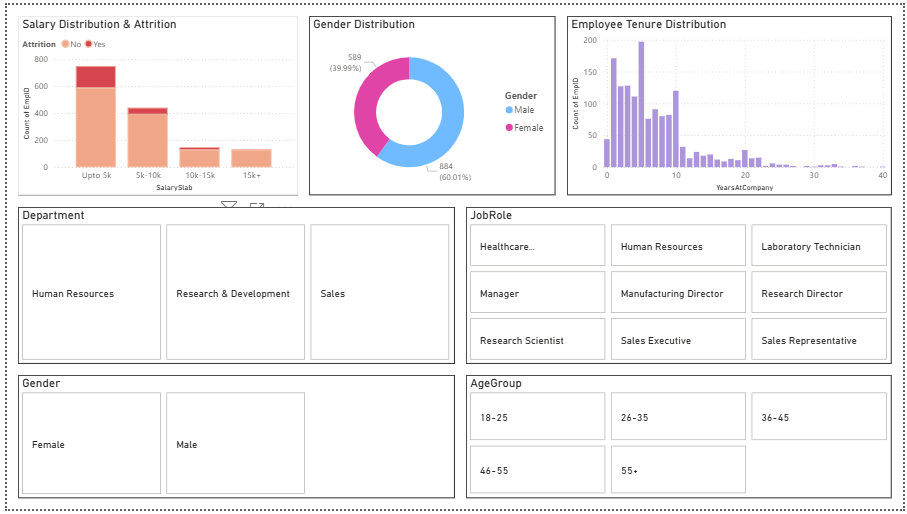

The page's visual inventory and layout, read from the dashboard file:
{"tool":"powerbi","page":{"name":"Workforce Profile","canvas":[1280,720],"ordinal":2},"visuals":[{"type":"columnChart","title":"Salary Distribution & Attrition","fields":{"Category":["HR_Analytics_Cleaned.SalarySlab"],"Y":["CountNonNull(HR_Analytics_Cleaned.EmpID)"],"Series":["HR_Analytics_Cleaned.Attrition"]},"box":[0,0,432,288],"z":0},{"type":"donutChart","title":"Gender Distribution","fields":{"Category":["HR_Analytics_Cleaned.Gender"],"Y":["CountNonNull(HR_Analytics_Cleaned.EmpID)"]},"box":[432,0,368,288],"z":1},{"type":"clusteredColumnChart","title":"Employee Tenure Distribution","fields":{"Category":["HR_Analytics_Cleaned.YearsAtCompany"],"Y":["CountNonNull(HR_Analytics_Cleaned.EmpID)"]},"box":[800,0,480,288],"z":2},{"type":"advancedSlicerVisual","fields":{"Values":["HR_Analytics_Cleaned.Department"]},"box":[0,288,656,240],"z":3},{"type":"advancedSlicerVisual","fields":{"Values":["HR_Analytics_Cleaned.JobRole"]},"box":[656,288,624,240],"z":4},{"type":"advancedSlicerVisual","fields":{"Values":["HR_Analytics_Cleaned.Gender"]},"box":[0,528,656,192],"z":5},{"type":"advancedSlicerVisual","fields":{"Values":["HR_Analytics_Cleaned.AgeGroup"]},"box":[656,528,624,192],"z":6}]}

Visuals, with their boxes in screenshot pixels (x1, y1, x2, y2), scaled from the page's 1280x720 canvas onto the 907x514 screenshot:
"Salary Distribution & Attrition" columnChart: x1=0, y1=0, x2=306, y2=206
"Gender Distribution" donutChart: x1=306, y1=0, x2=567, y2=206
"Employee Tenure Distribution" clusteredColumnChart: x1=567, y1=0, x2=906, y2=206
advancedSlicerVisual - HR_Analytics_Cleaned.Department: x1=0, y1=206, x2=465, y2=377
advancedSlicerVisual - HR_Analytics_Cleaned.JobRole: x1=465, y1=206, x2=906, y2=377
advancedSlicerVisual - HR_Analytics_Cleaned.Gender: x1=0, y1=377, x2=465, y2=513
advancedSlicerVisual - HR_Analytics_Cleaned.AgeGroup: x1=465, y1=377, x2=906, y2=513
